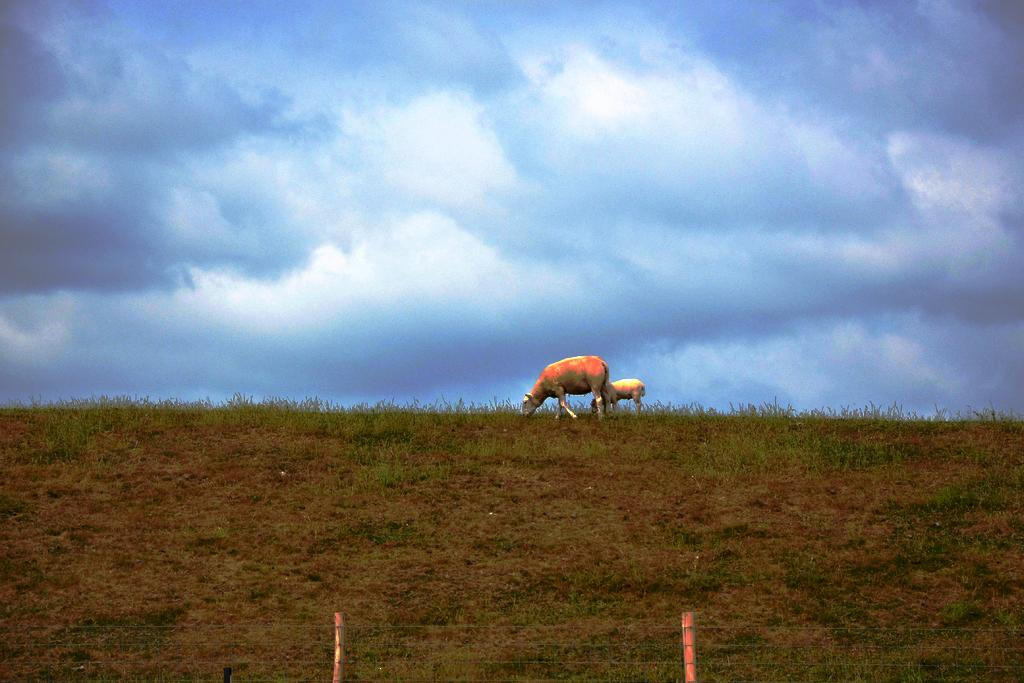Sheep: (521, 356, 614, 422), (591, 378, 646, 420)
